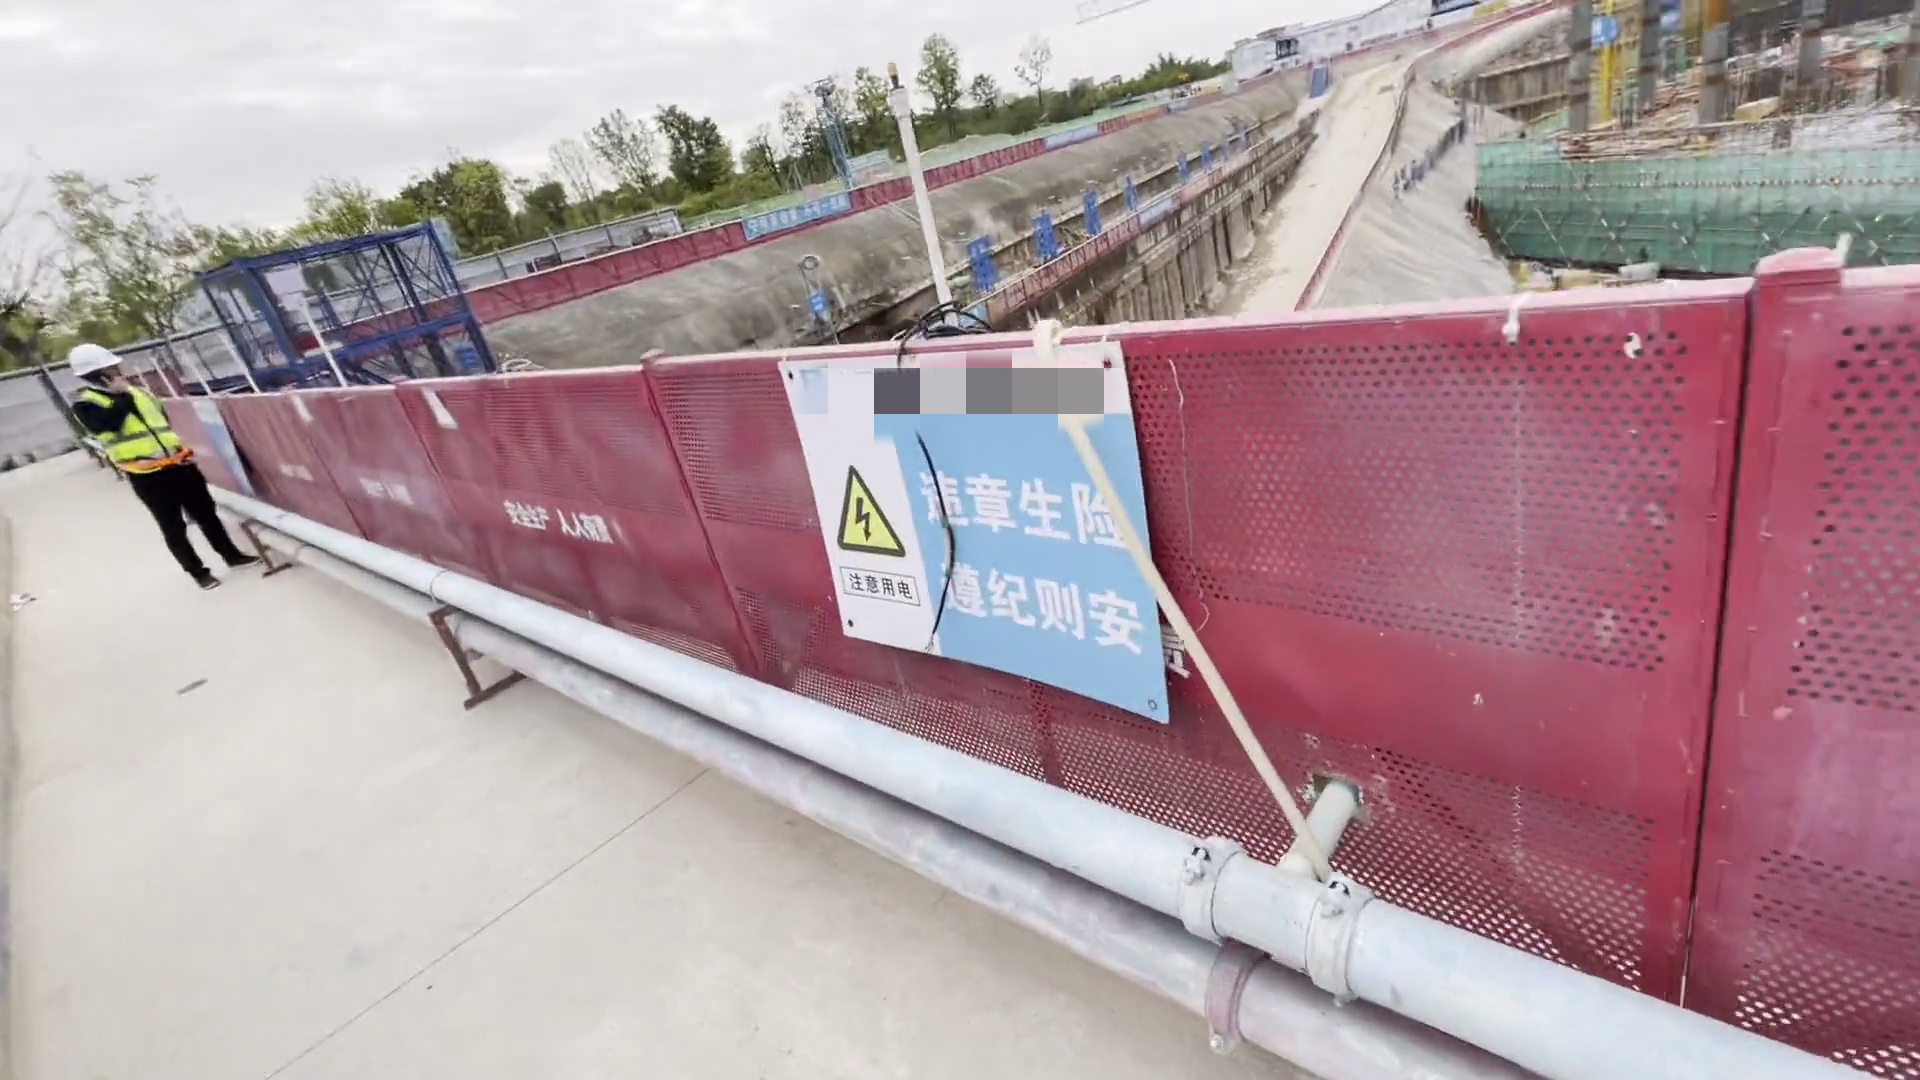fence: (244, 314, 1919, 1038), (417, 170, 899, 318)
helmet: (64, 342, 124, 380)
person: (54, 334, 265, 600)
slogan: (777, 350, 1158, 721), (740, 193, 856, 242)
vest: (66, 388, 202, 485)
